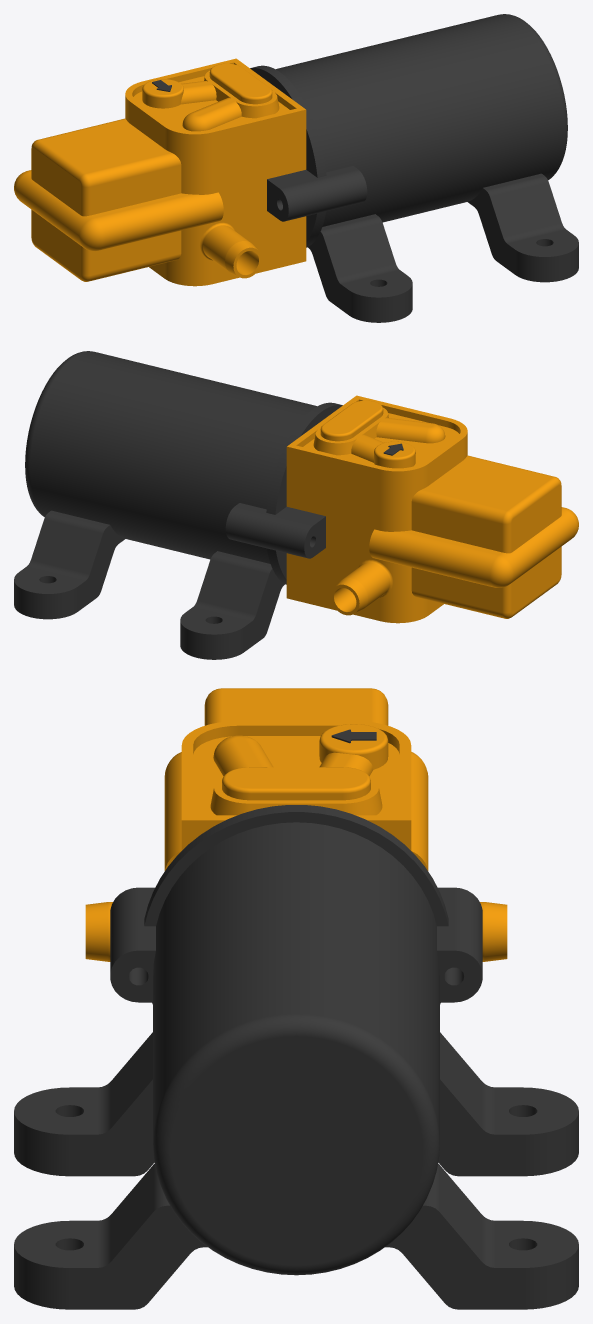
The picture shows the model from 3 angles, top to bottom: view 1: azimuth 30°, elevation 25°; view 2: azimuth 150°, elevation 25°; view 3: azimuth 270°, elevation 25°; orthographic projection. The views are drawn at different scales.
Visible parts, largest first — view 1: MOTOR, PUMP, PUMP_CAP1, PRESSURE_CAP, PRESSURE_BODY, PUMP_CAP2; view 2: MOTOR, PUMP, PUMP_CAP1, PRESSURE_CAP, PRESSURE_BODY, PUMP_CAP2; view 3: MOTOR, PUMP_CAP1, PRESSURE_CAP, PUMP, PRESSURE_BODY.
Boxes of the visible parts, x1,y1,x2,y2 form: MOTOR: [152, 14, 578, 322]; PUMP: [114, 114, 306, 278]; PUMP_CAP1: [125, 58, 306, 153]; PRESSURE_CAP: [14, 134, 126, 281]; PRESSURE_BODY: [62, 121, 178, 275]; PUMP_CAP2: [149, 242, 306, 286]; MOTOR: [14, 351, 403, 659]; PUMP: [286, 451, 478, 615]; PUMP_CAP1: [286, 395, 467, 490]; PRESSURE_CAP: [466, 471, 578, 618]; PRESSURE_BODY: [414, 458, 530, 612]; PUMP_CAP2: [286, 579, 443, 623]; MOTOR: [14, 729, 578, 1309]; PUMP_CAP1: [181, 721, 411, 850]; PRESSURE_CAP: [164, 688, 428, 793]; PUMP: [85, 815, 507, 961]; PRESSURE_BODY: [164, 708, 428, 834].
Size of the model in its own units: 0.159 by 0.0615 by 0.0985.
